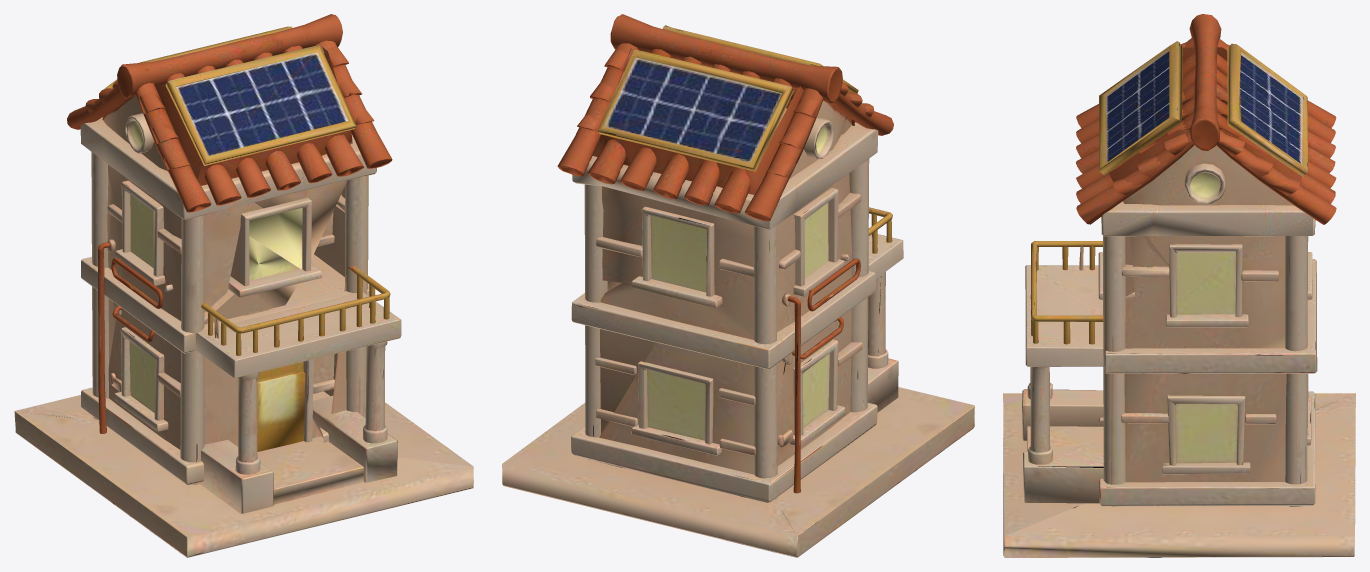
The model's file is house-two-storey.glb.
The picture shows the model from 3 angles, left to right: view 1: azimuth 30°, elevation 25°; view 2: azimuth 150°, elevation 25°; view 3: azimuth 270°, elevation 25°; orthographic projection. The views are drawn at different scales.
Parts seen in each view (by area): view 1: house-two-storey; view 2: house-two-storey; view 3: house-two-storey.
Boxes of the visible parts, left/top/right/bottom form: house-two-storey: left=14, top=14, right=473, bottom=557; house-two-storey: left=502, top=14, right=974, bottom=557; house-two-storey: left=1003, top=14, right=1355, bottom=557.
Size of the model in its own units: 5.76 by 7.88 by 6.
Materials: 1 (1 with a texture image).
